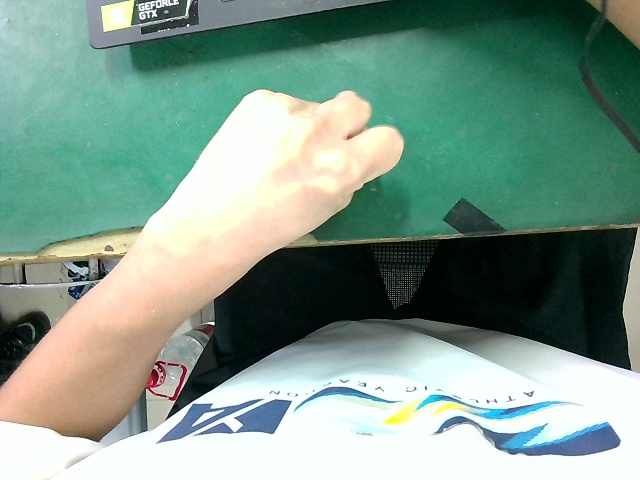stone: (128, 53, 410, 299)
